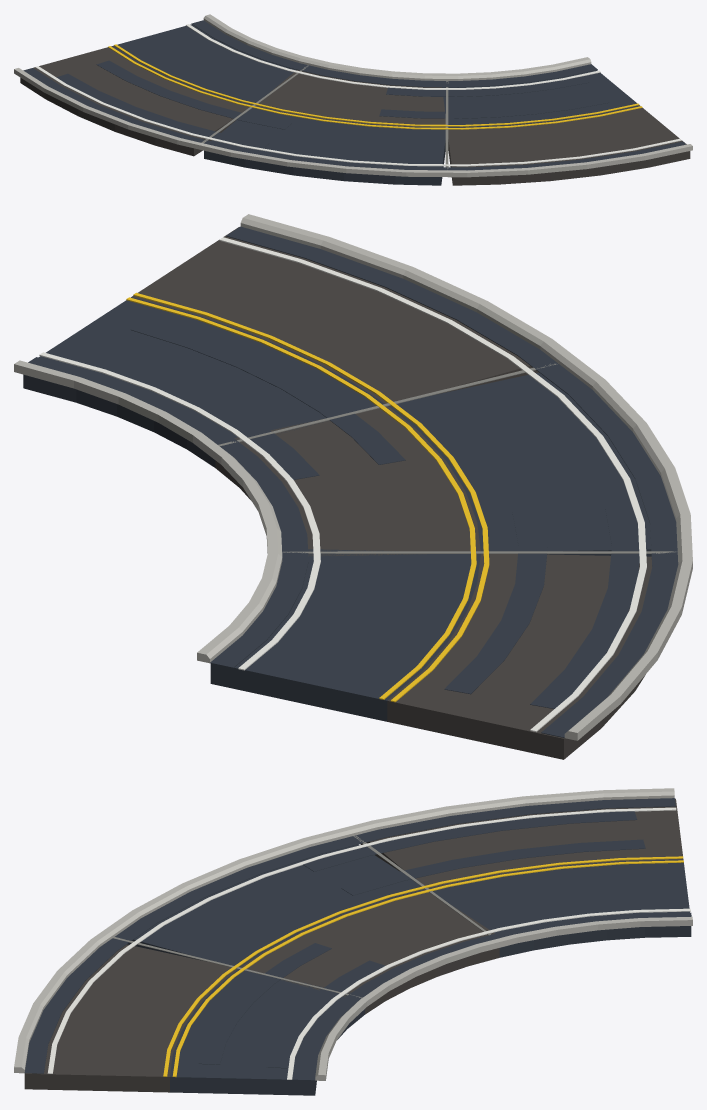
The model's file is ROAD_07.obj.
3 renders of one model, top to bottom at view 1: azimuth 30°, elevation 25°; view 2: azimuth 150°, elevation 25°; view 3: azimuth 270°, elevation 25°, orthographic. The views are drawn at different scales.
Parts seen in each view (by area): view 1: ROAD_07__surface, ROAD_07__markings, ROAD_07__curb, ROAD_07__wear, ROAD_07__seams; view 2: ROAD_07__surface, ROAD_07__markings, ROAD_07__wear, ROAD_07__curb, ROAD_07__seams; view 3: ROAD_07__surface, ROAD_07__markings, ROAD_07__curb, ROAD_07__wear, ROAD_07__seams.
Part boxes in pixels (x1=…): ROAD_07__surface: x1=20, y1=24, x2=690, y2=185; ROAD_07__markings: x1=23, y1=20, x2=685, y2=170; ROAD_07__curb: x1=14, y1=14, x2=692, y2=177; ROAD_07__wear: x1=56, y1=60, x2=609, y2=148; ROAD_07__seams: x1=201, y1=65, x2=448, y2=168; ROAD_07__surface: x1=23, y1=227, x2=652, y2=759; ROAD_07__markings: x1=28, y1=226, x2=678, y2=737; ROAD_07__wear: x1=75, y1=320, x2=639, y2=708; ROAD_07__curb: x1=14, y1=214, x2=692, y2=740; ROAD_07__seams: x1=218, y1=363, x2=676, y2=553; ROAD_07__surface: x1=24, y1=798, x2=691, y2=1095; ROAD_07__markings: x1=24, y1=798, x2=691, y2=1080; ROAD_07__curb: x1=14, y1=788, x2=692, y2=1080; ROAD_07__wear: x1=198, y1=811, x2=645, y2=1068; ROAD_07__seams: x1=113, y1=835, x2=490, y2=998.
Bounding box in the file's own units: 15.86 × 0.55 × 15.86.
